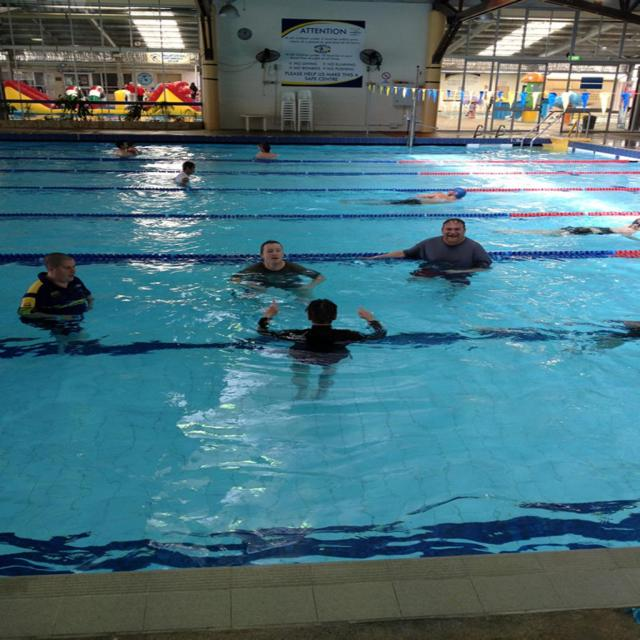nomask: (53, 259, 75, 282), (442, 220, 463, 243), (262, 243, 282, 263), (631, 222, 640, 232)
